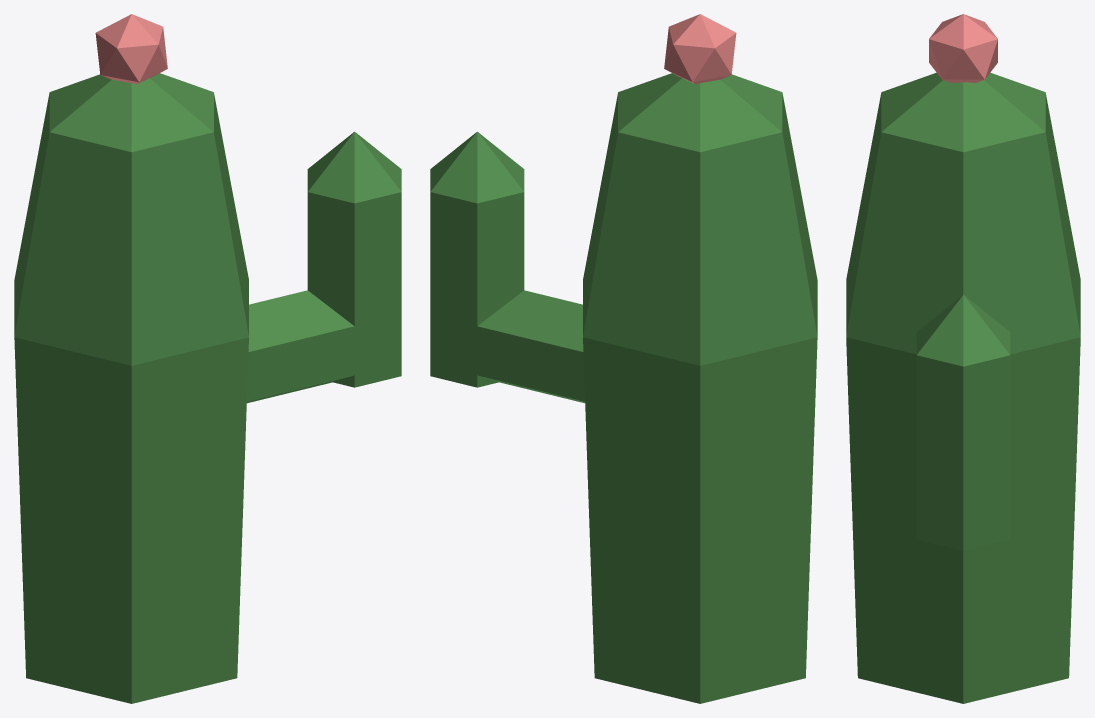
The model's file is cactus-small.glb.
3 views of the same model, side by side, from view 1: azimuth 30°, elevation 25°; view 2: azimuth 150°, elevation 25°; view 3: azimuth 270°, elevation 25° (orthographic).
Parts seen in each view (by area): view 1: sand-cactus-small; view 2: sand-cactus-small; view 3: sand-cactus-small.
Part boxes in pixels (x1,y1,x2,y2): sand-cactus-small: [14, 14, 401, 703]; sand-cactus-small: [430, 14, 817, 703]; sand-cactus-small: [846, 14, 1080, 703].
Bounding box in the file's own units: 0.33 × 0.54 × 0.1732.
